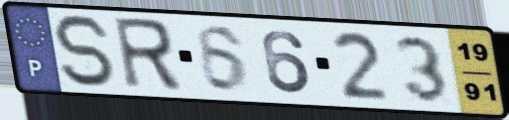2: (329, 29, 392, 103)
3: (393, 34, 452, 104)
6: (194, 24, 253, 94), (259, 28, 314, 96)
R: (109, 15, 186, 95)
S: (49, 12, 122, 90)
